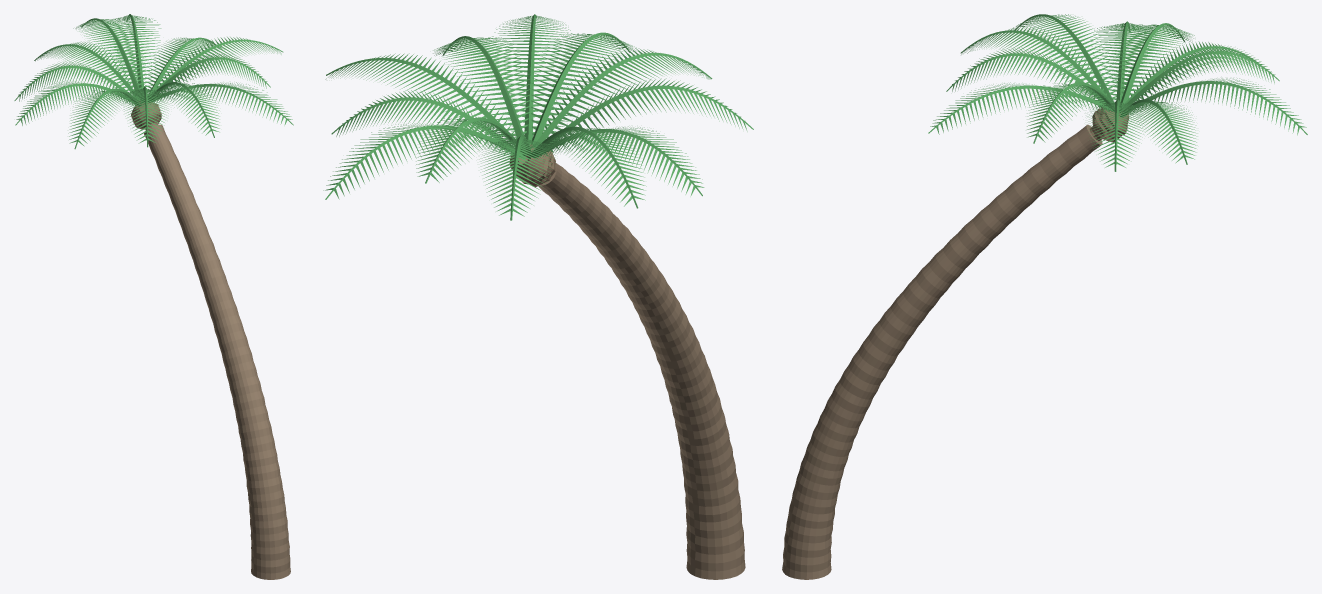
3 renders of one model, left to right at view 1: azimuth 30°, elevation 25°; view 2: azimuth 150°, elevation 25°; view 3: azimuth 270°, elevation 25°, orthographic. The views are drawn at different scales.
Parts seen in each view (by area): view 1: fronds, trunk, crown_base; view 2: fronds, trunk, crown_base; view 3: fronds, trunk, crown_base.
Part boxes in pixels (x1,y1,x2,y2): fronds: (14, 14, 293, 149); trunk: (144, 124, 290, 579); crown_base: (131, 101, 161, 129); fronds: (323, 14, 753, 220); trunk: (538, 163, 745, 579); crown_base: (509, 144, 555, 187); fronds: (928, 14, 1307, 171); trunk: (782, 124, 1102, 579); crown_base: (1089, 107, 1129, 142).
Size of the model in its own units: 14.82 by 22.97 by 21.05.
